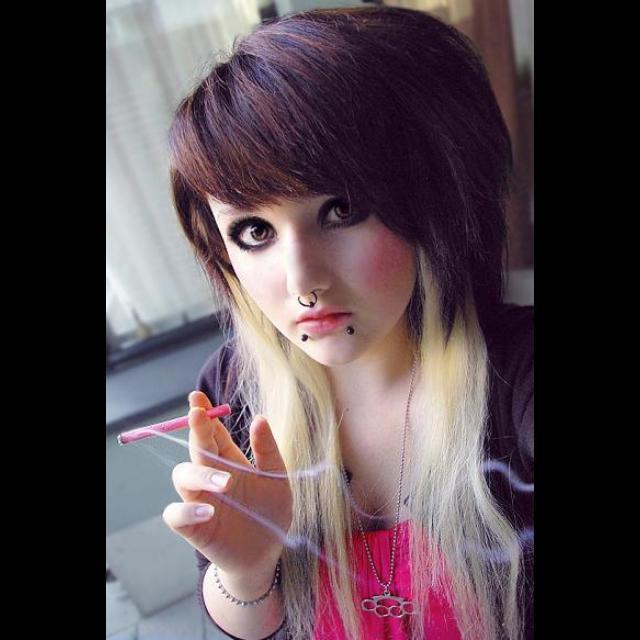rokok: (112, 402, 248, 446)
